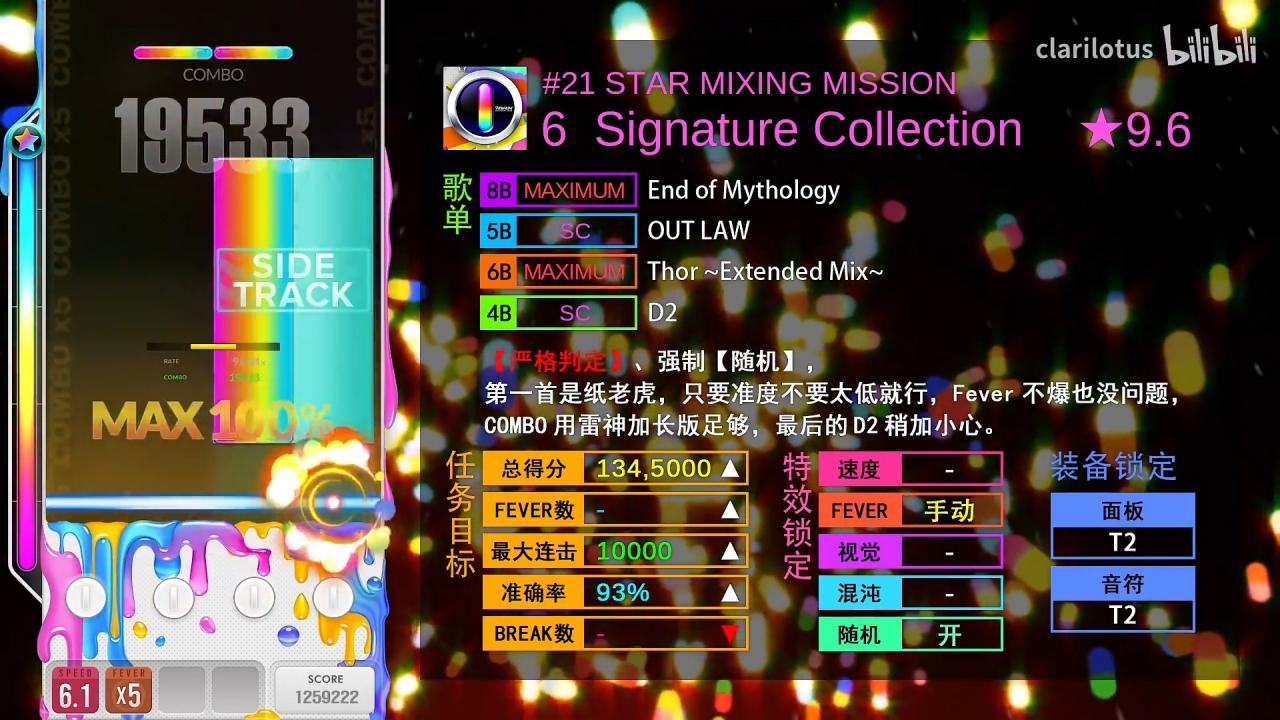hold-end: (214, 158, 294, 171)
hold-start: (213, 430, 294, 443)
note: (214, 46, 293, 60), (133, 47, 213, 60)
side-end: (214, 157, 374, 171)
side-start: (212, 430, 374, 444)
